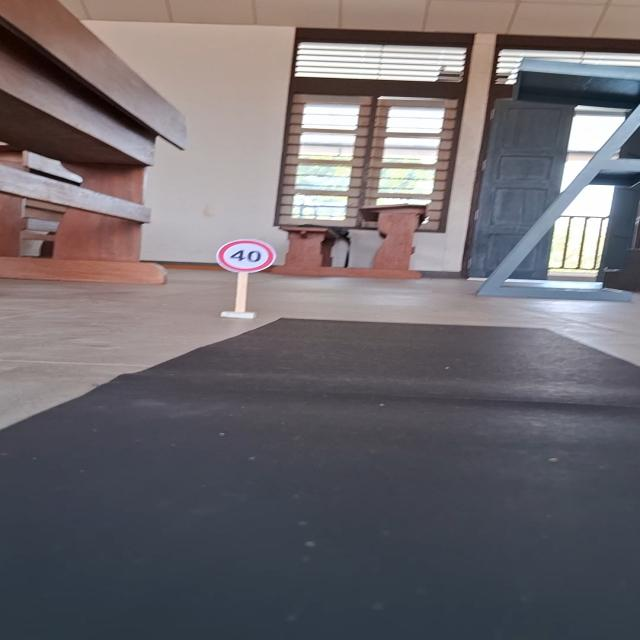Speed40: (214, 238, 279, 275)
